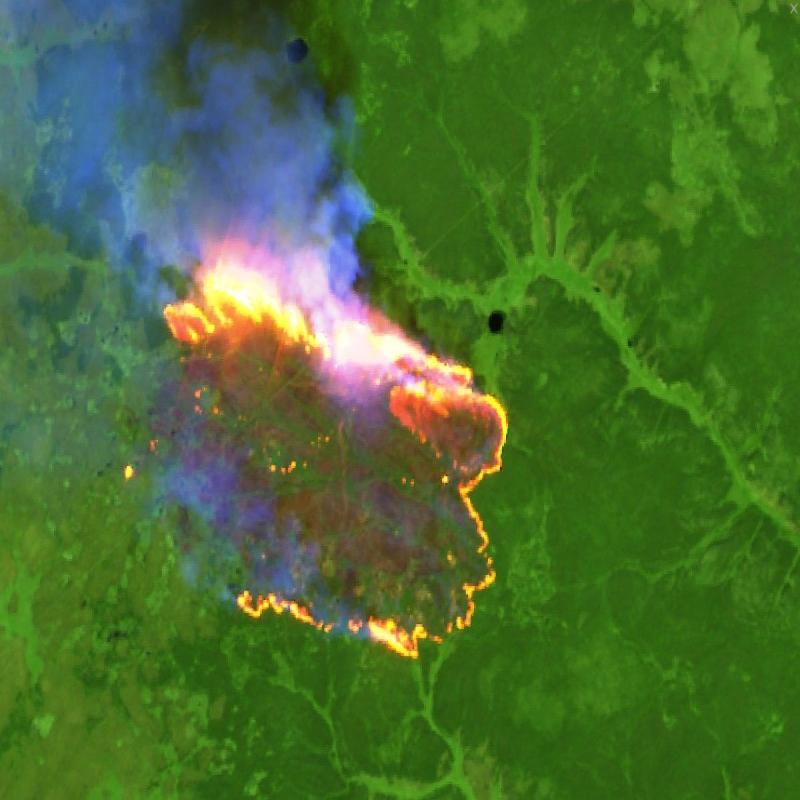fire: (117, 220, 516, 672)
